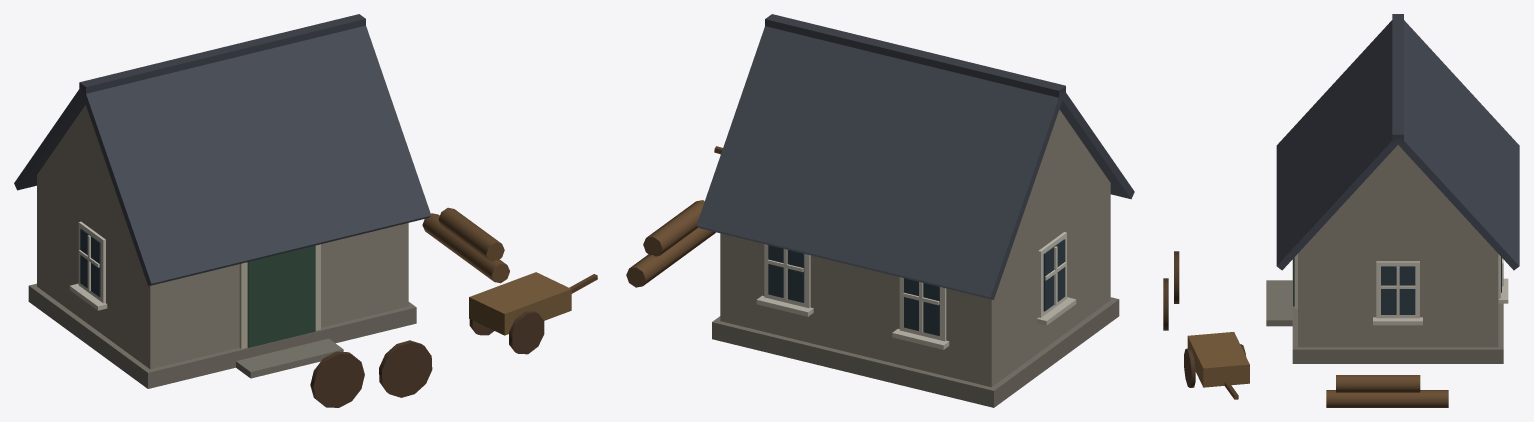
Rendered from procedural_cartwright@3.glb.
The picture shows the model from 3 angles, left to right: view 1: azimuth 30°, elevation 25°; view 2: azimuth 150°, elevation 25°; view 3: azimuth 270°, elevation 25°; orthographic projection. The views are drawn at different scales.
Parts seen in each view (by area): view 1: part_0; view 2: part_0; view 3: part_0.
Part boxes in pixels (x1,y1,x2,y2): part_0: [14, 14, 597, 407]; part_0: [626, 14, 1134, 407]; part_0: [1163, 14, 1519, 407].
Size of the model in its own units: 8.18 by 4.85 by 6.75.
